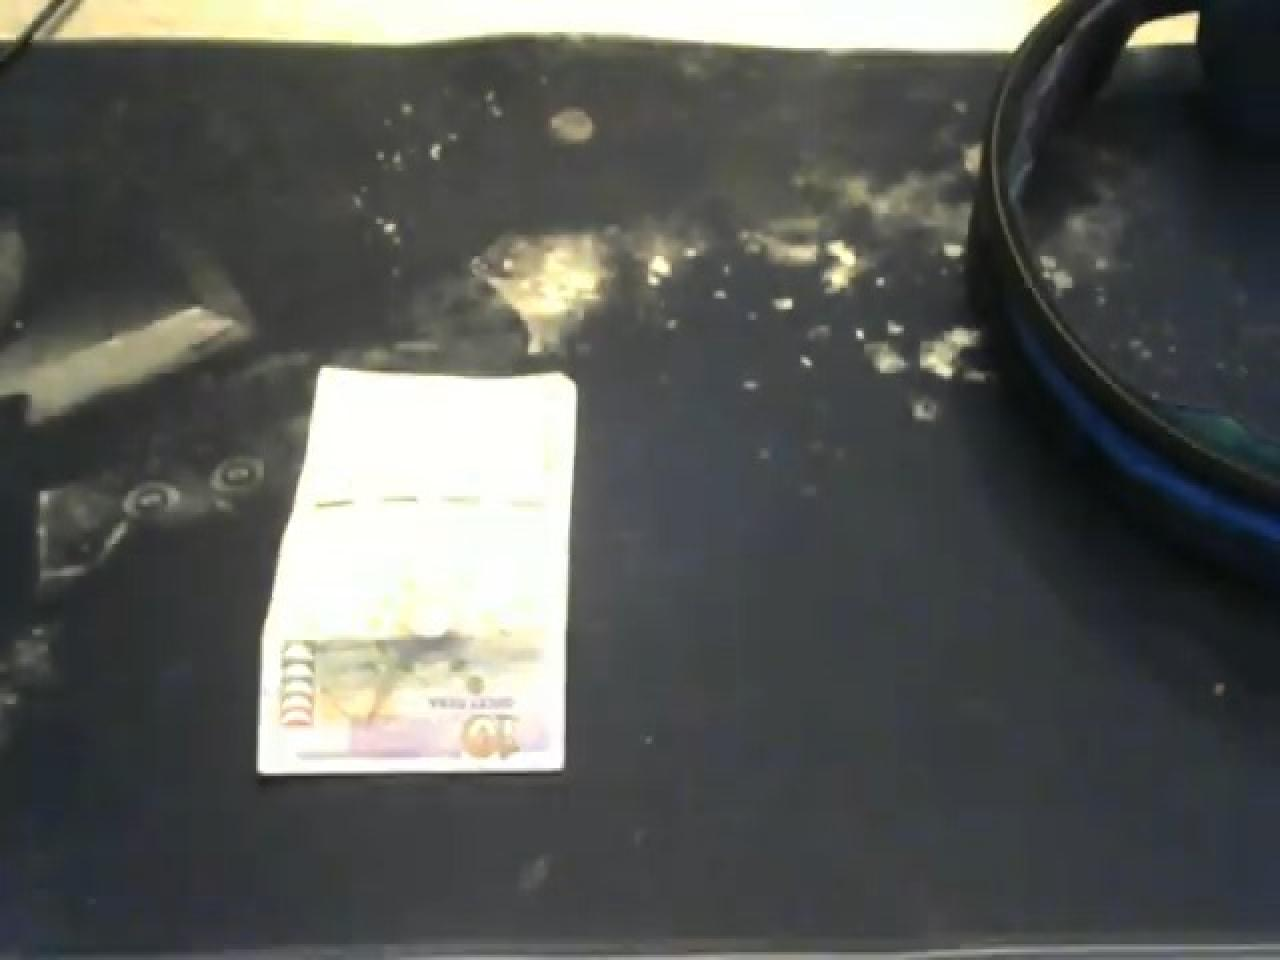10leva: (252, 368, 578, 778)
